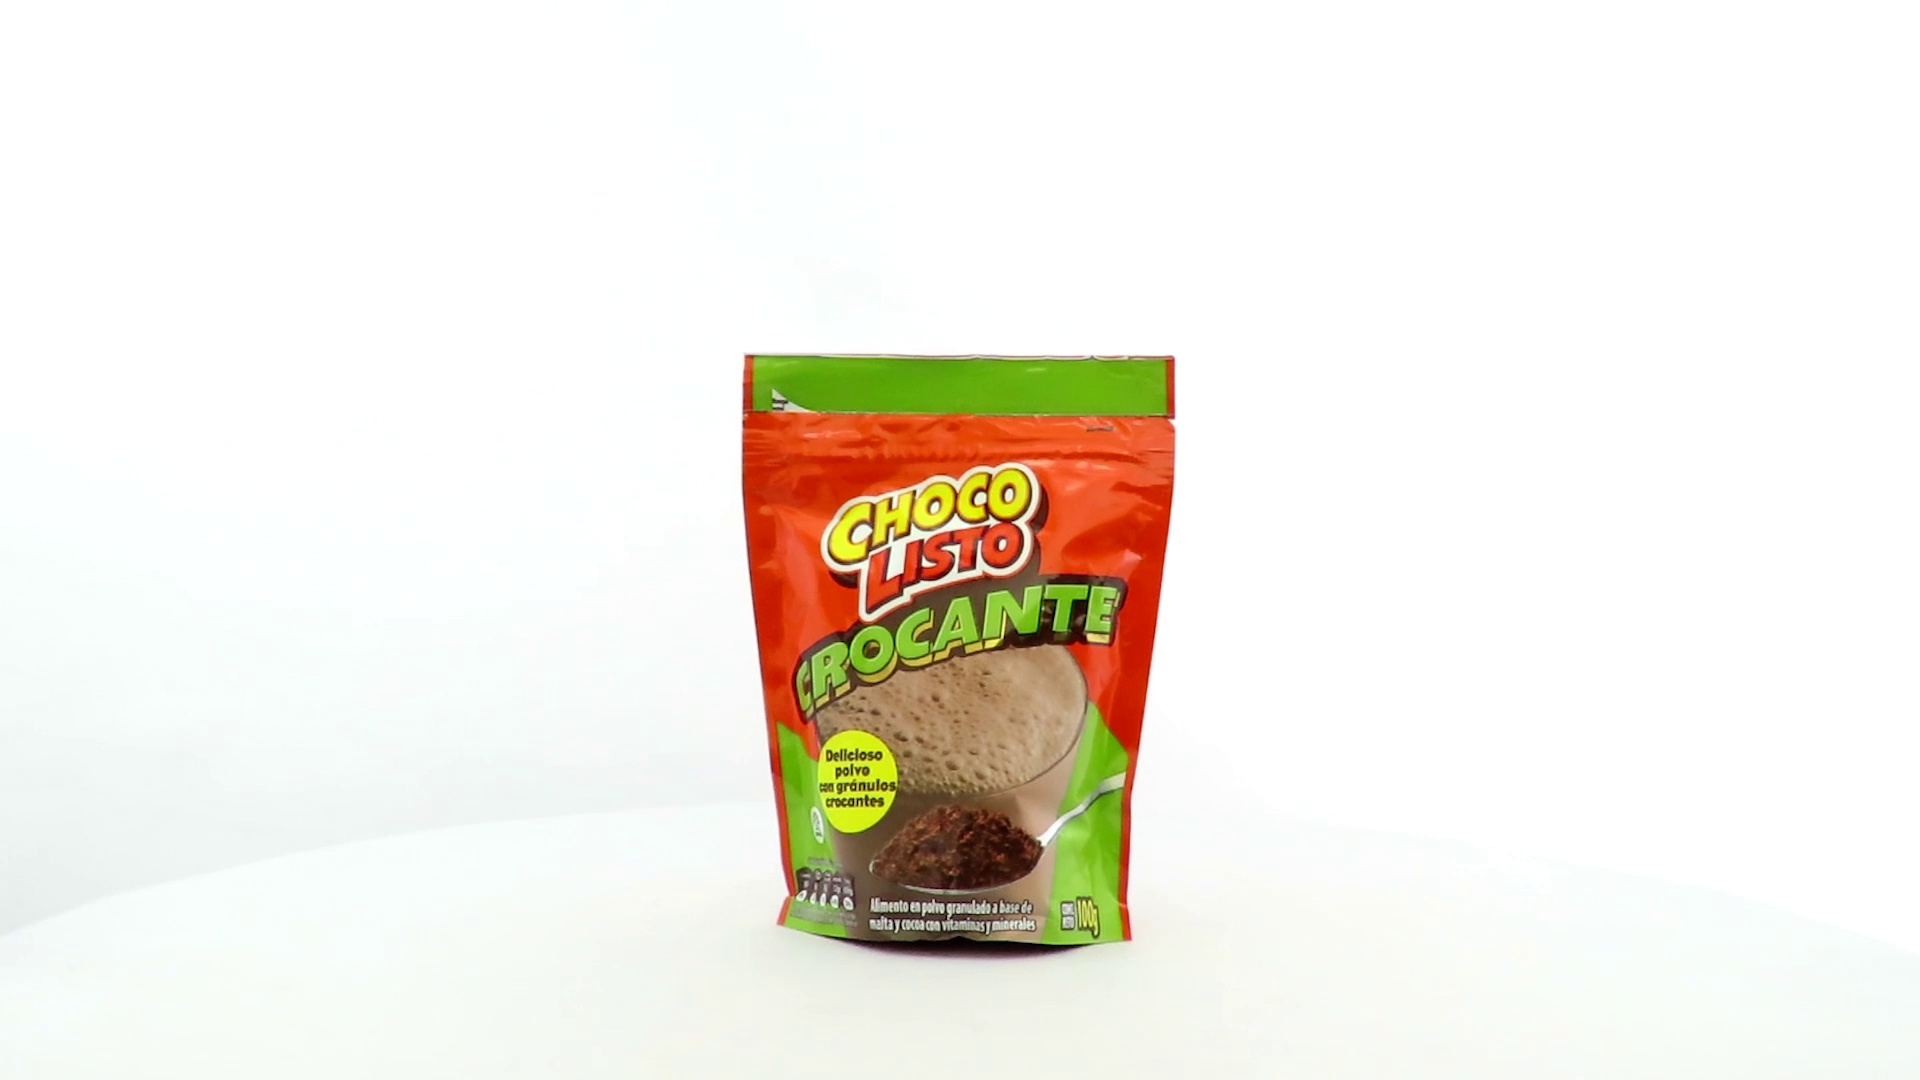COL0170102DYP10000: (737, 348, 1182, 965)
